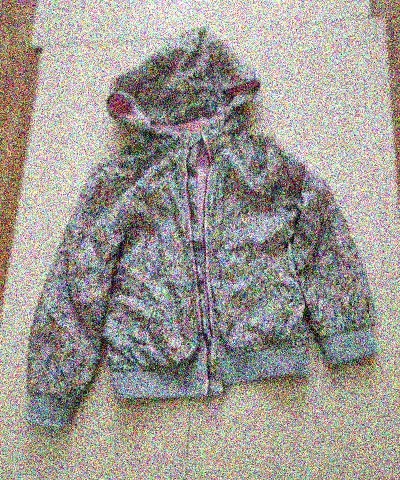Hoodie: (10, 58, 386, 423)
